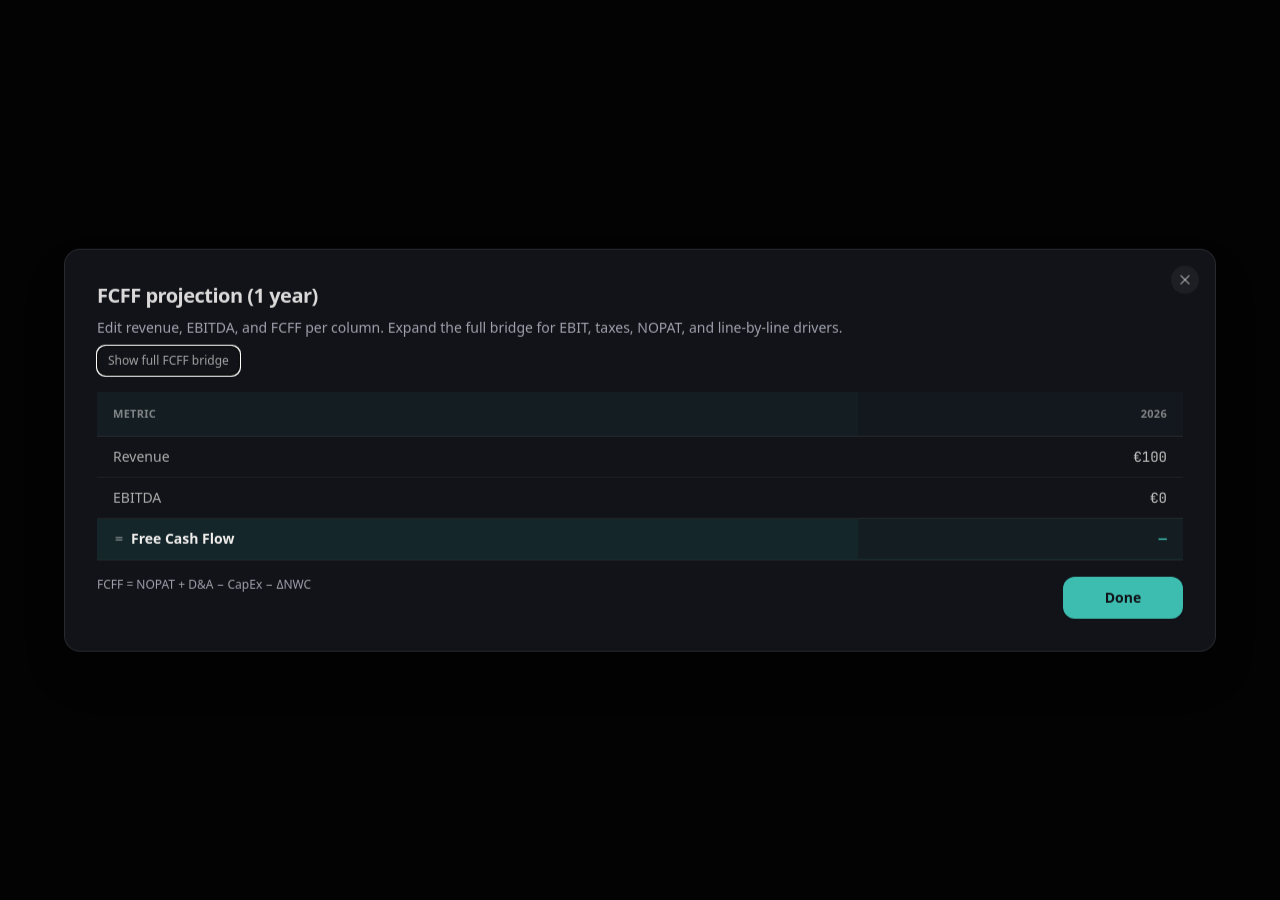
Test case: DCF input presentation in en › shows unresolved cash flow as a dash while an observed zero remains editable
This screenshot has width=1280, height=900.
Expected: the text "—" is shown, 858,518 -> 1183,559
Click the cell "€0" at [1159, 497], box 858,477 -> 1183,518
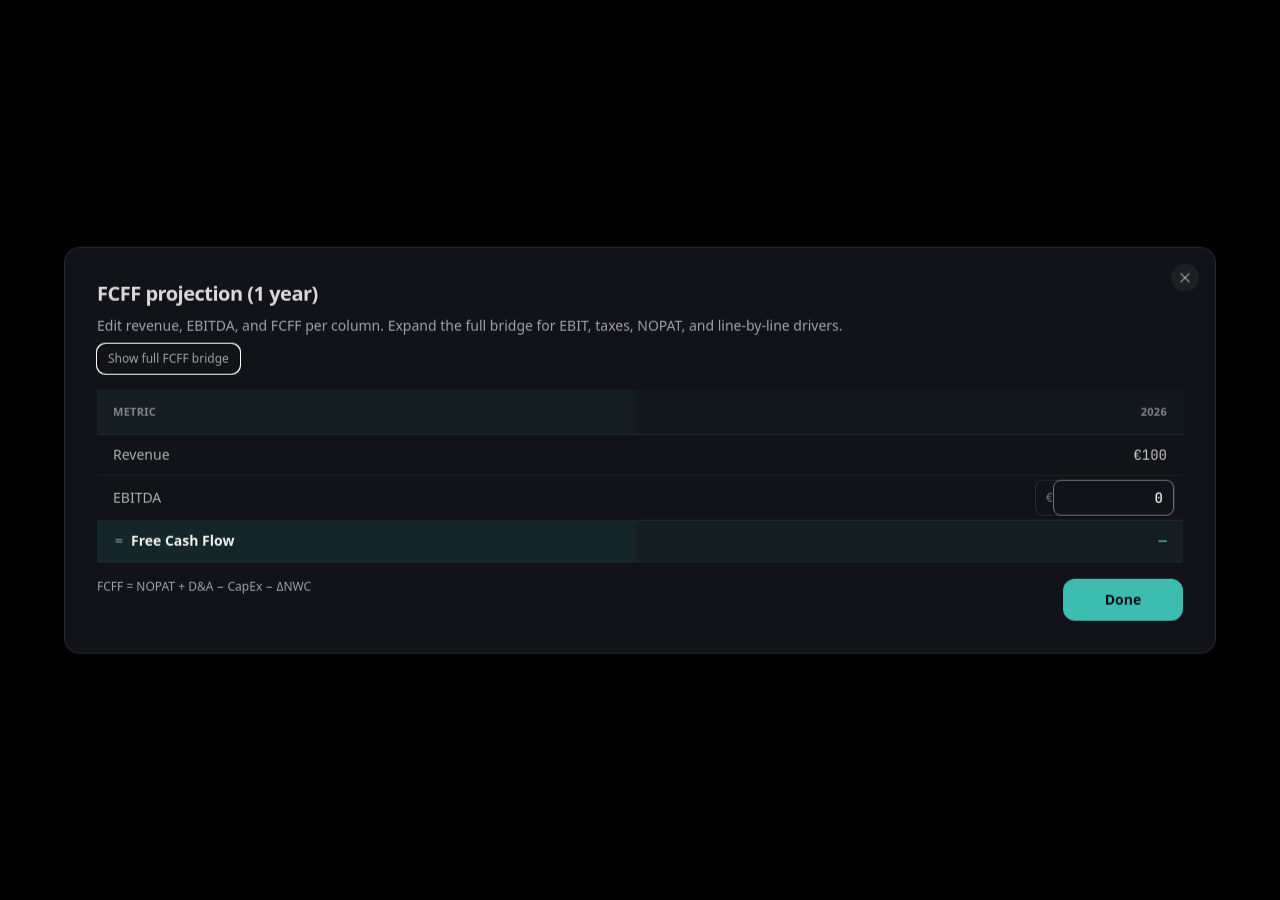
Expected: the field named "ebitda 2026" holds "0", 1053,479 -> 1174,515
